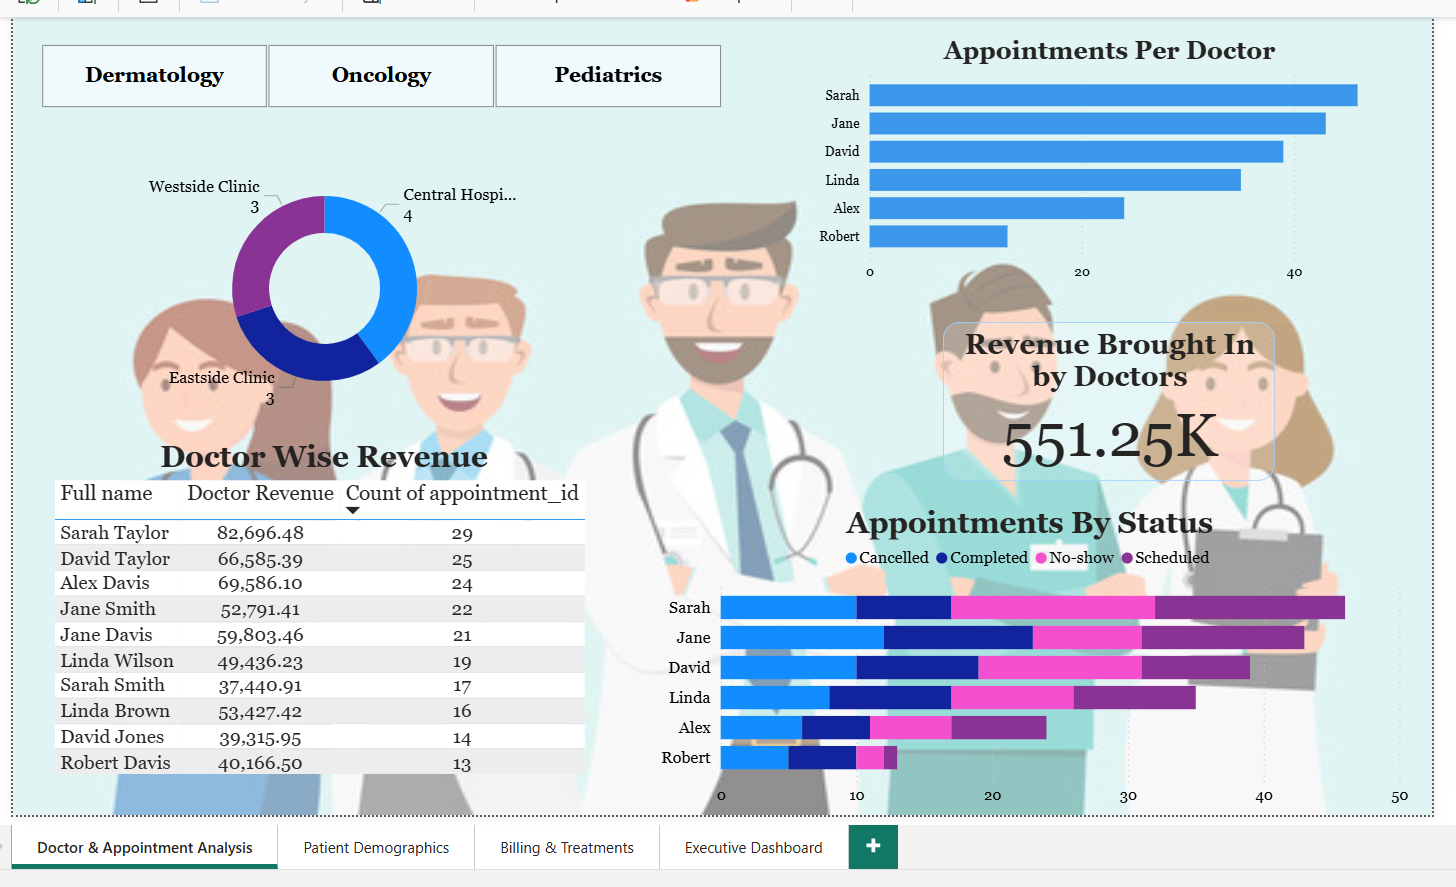

The page's visual inventory and layout, read from the dashboard file:
{"tool":"powerbi","page":{"name":"Doctor & Appointment Analysis","canvas":[1280,720],"ordinal":0},"visuals":[{"type":"barChart","title":"Appointments Per Doctor","fields":{"Category":["doctors.first_name"],"Y":["appointments.appointment_id"]},"box":[714.6,17.4,548.3,228.6],"z":0},{"type":"tableEx","title":"Doctor Wise Revenue","fields":{"Values":["doctors.full name","Measure.Doctor Revenue","appointments.appointment_id"]},"box":[31.8,380.5,497.7,315.4],"z":1000},{"type":"barChart","title":"Appointments By Status","fields":{"Category":["doctors.first_name"],"Series":["appointments.status"],"Y":["appointments.appointment_id"]},"box":[570,441.2,693,277.8],"z":2000},{"type":"slicer","fields":{"Values":["doctors.specialization"]},"box":[0,17.6,662.2,70.5],"z":3000},{"type":"card","title":"Revenue Brought In by Doctors ","fields":{"Values":["Measure.Doctor Revenue"]},"box":[839.1,274.9,299.5,143.2],"z":4000},{"type":"donutChart","fields":{"Category":["doctors.hospital_branch"],"Y":["doctors.doctor_id"]},"box":[99.8,128.8,361.7,232.9],"z":5000}]}

Visuals, with their boxes on the page's 1280x720 design canvas (x1, y1, x2, y2). These are canvas units, not pixel positions in the 1456x887 screenshot, which may show the page scaled, cropped or inside an application window:
"Appointments Per Doctor" barChart: left=715, top=17, right=1263, bottom=246
"Doctor Wise Revenue" tableEx: left=32, top=380, right=530, bottom=696
"Appointments By Status" barChart: left=570, top=441, right=1263, bottom=719
slicer - doctors.specialization: left=0, top=18, right=662, bottom=88
"Revenue Brought In by Doctors " card: left=839, top=275, right=1139, bottom=418
donutChart - doctors.hospital_branch x doctors.doctor_id: left=100, top=129, right=462, bottom=362
